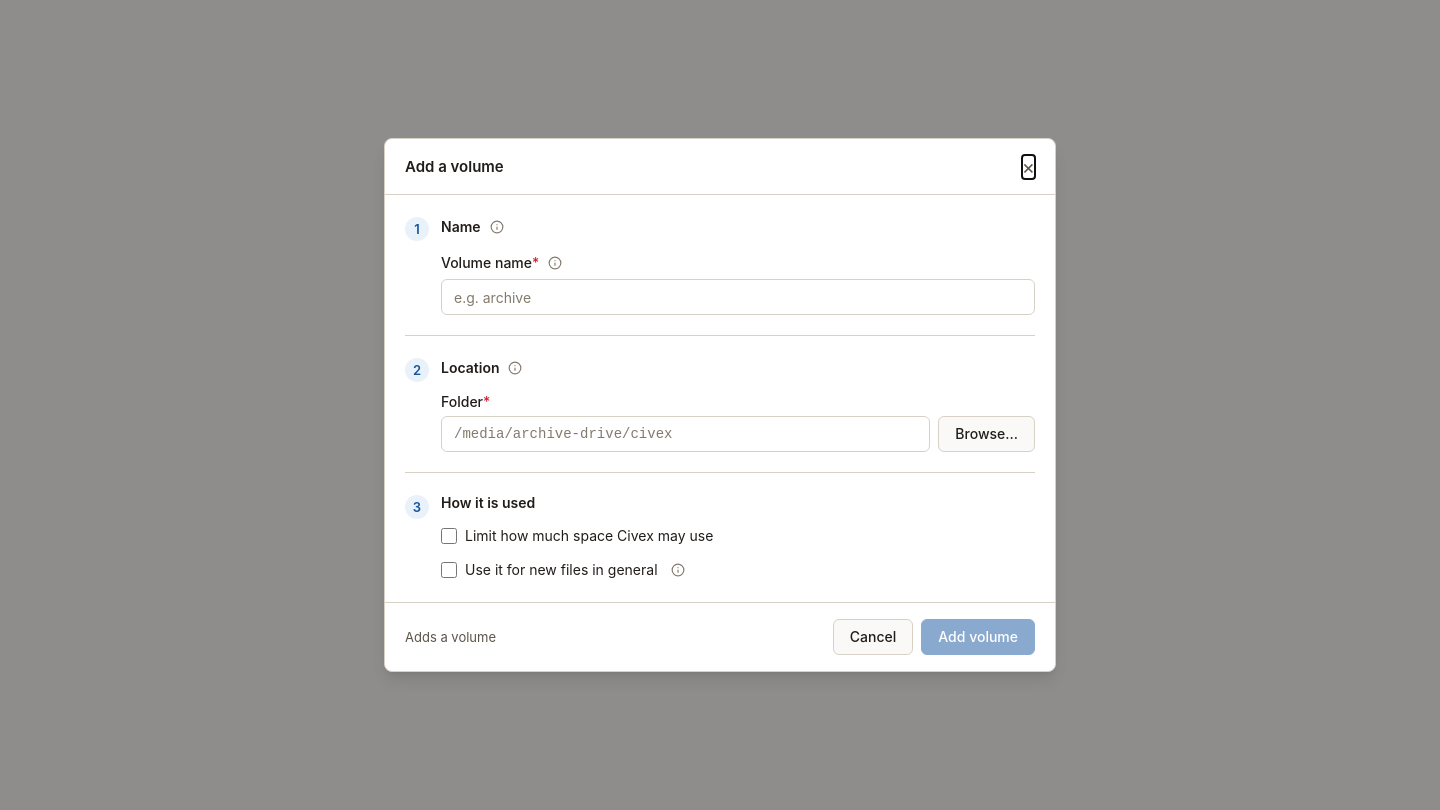
Test case: AddVolumeModal › shows problems and blocks adding
Type "archive" into the field labelled "Volume name*" at (738, 297), box x1=441 y1=279 x2=1035 y2=315
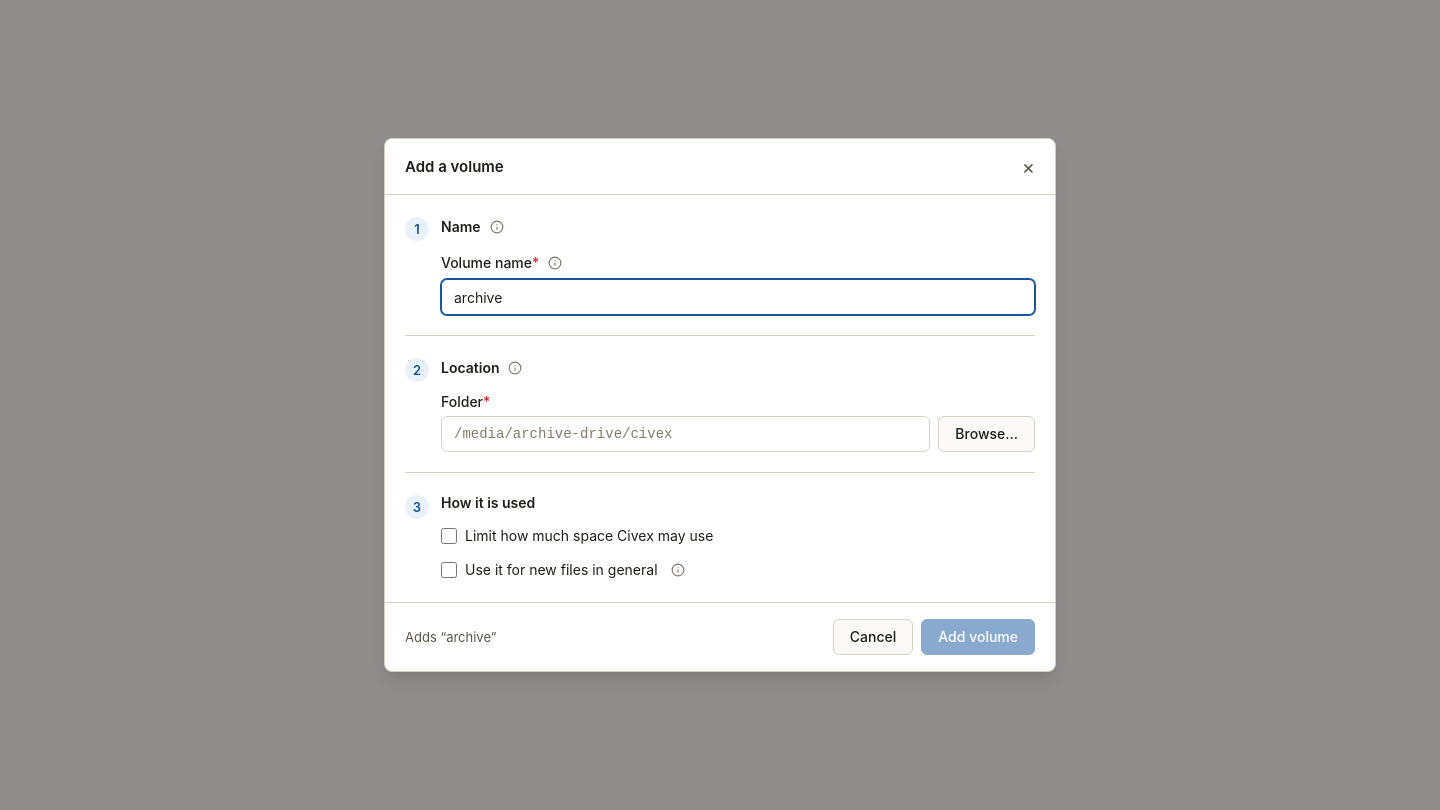
Type "/media/usb" into the field labelled "Folder*" at (686, 434), box x1=441 y1=416 x2=930 y2=452
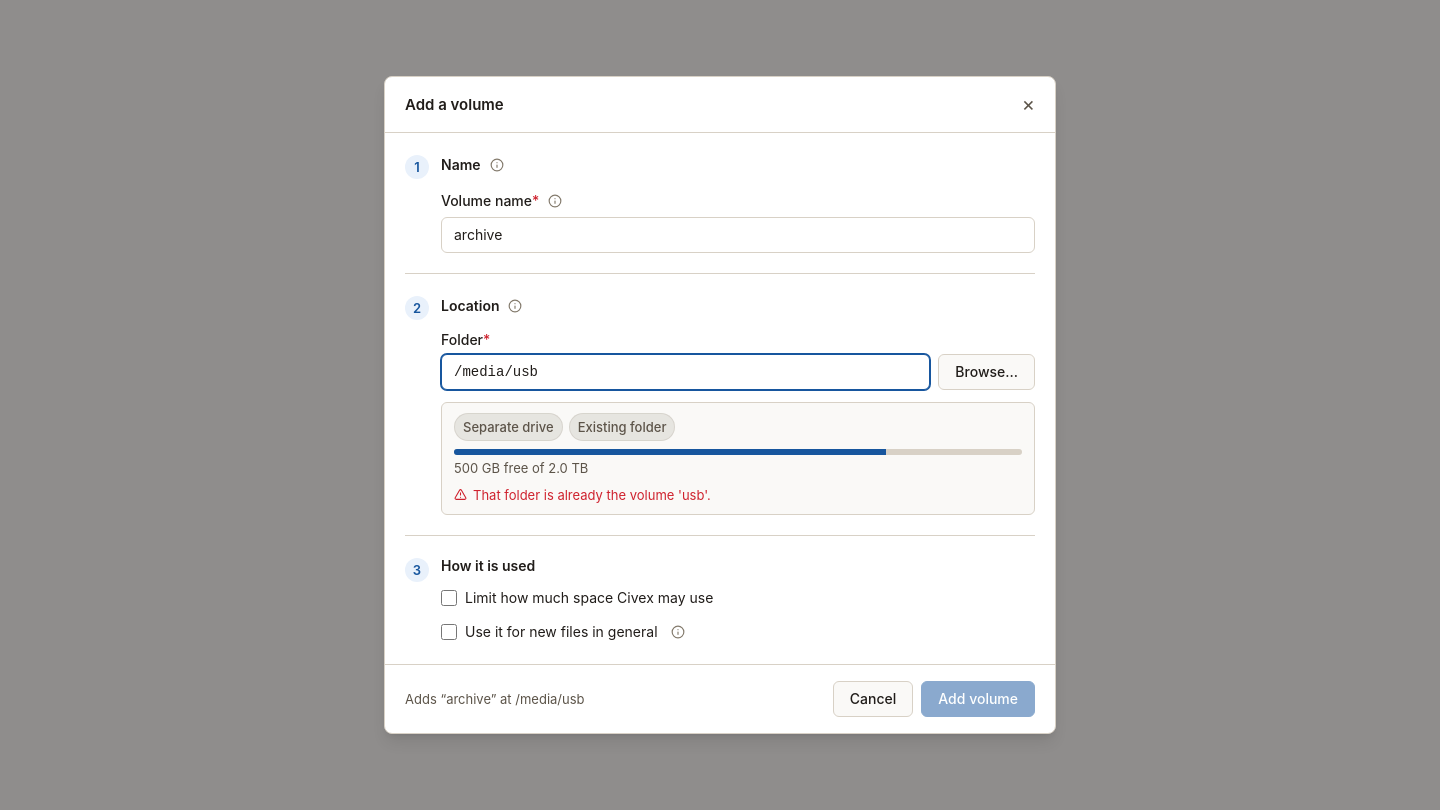
Expected: the button "Add volume" is disabled, x1=921 y1=681 x2=1035 y2=717
Expected: the text "That folder is already the volume 'usb'." is shown, x1=454 y1=487 x2=711 y2=503
